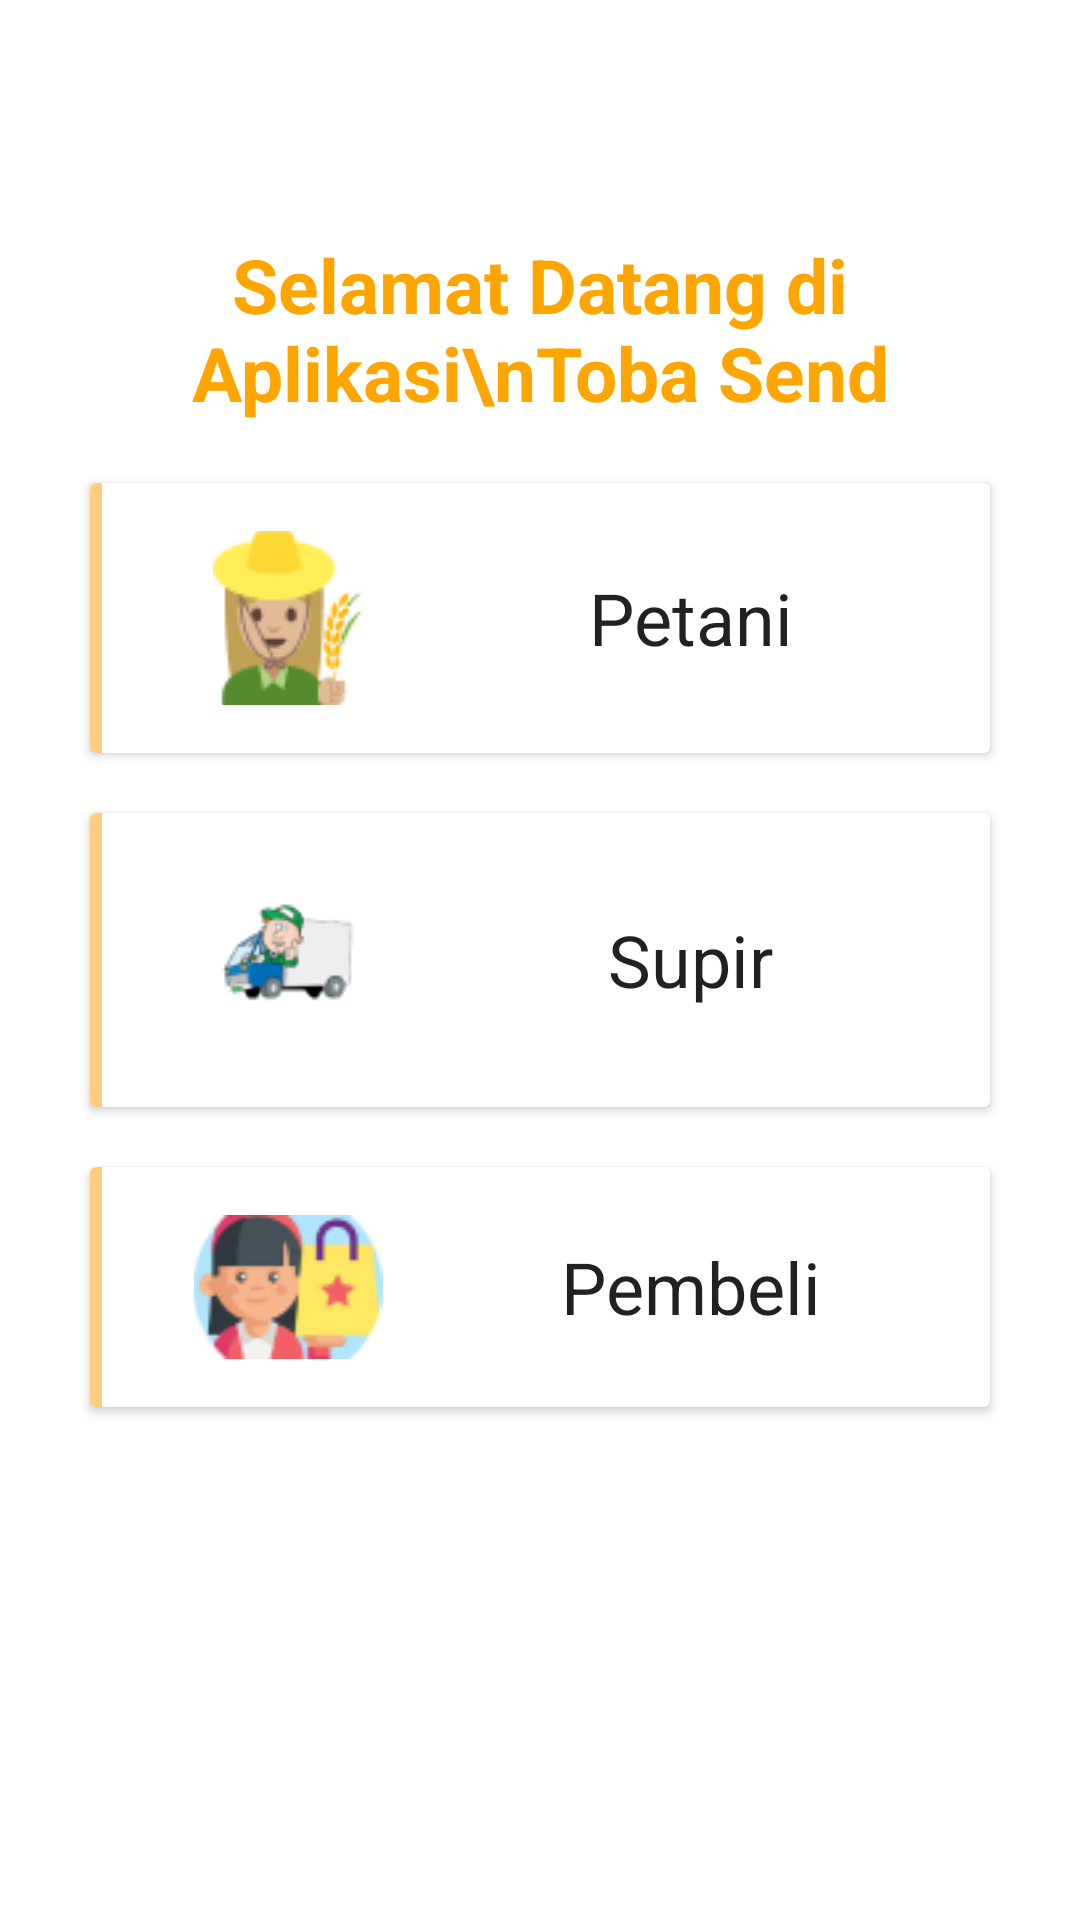

Icons on this 1080px x 1920px Android screen, each with its box as box=[x1, y1, x2, y2]:
buyer: box=[194, 1215, 383, 1359]
driver: box=[223, 904, 352, 1000]
farmer: box=[213, 531, 361, 705]
